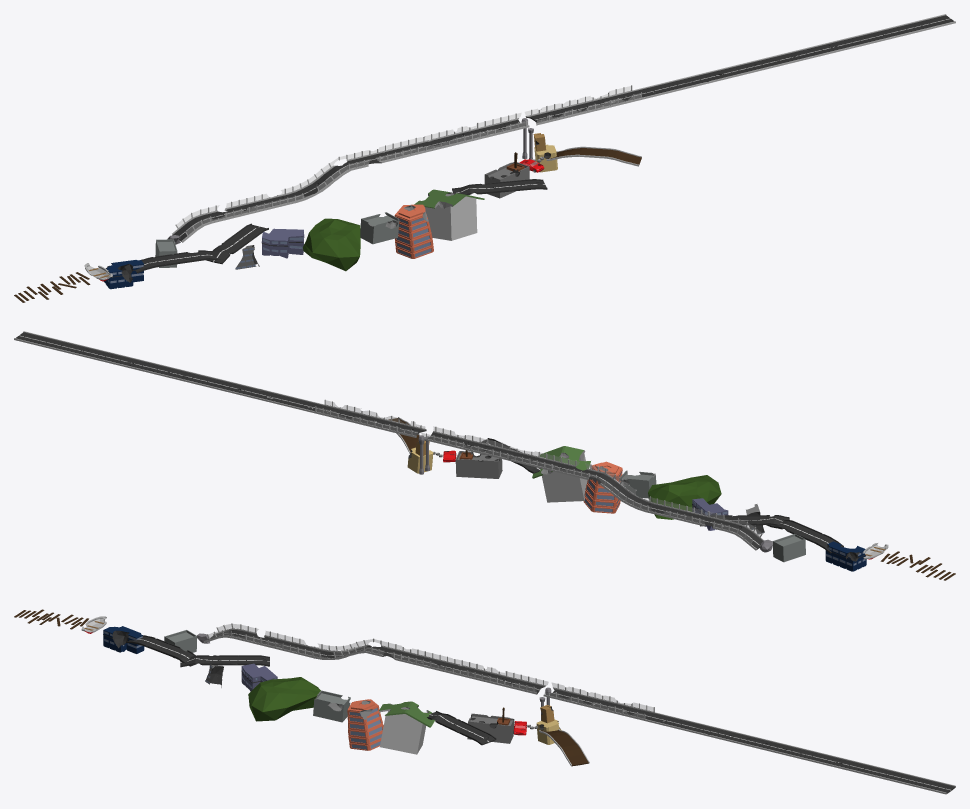
Rendered from Map2_물에잠긴도시_바닥.fbx.
The picture shows the model from 3 angles, top to bottom: view 1: azimuth 30°, elevation 25°; view 2: azimuth 150°, elevation 25°; view 3: azimuth 330°, elevation 25°; orthographic projection. The views are drawn at different scales.
Visible parts, largest first — view 1: 3_물도시_바닥_Bridge, 3_물도시_바닥_밟는 건물.006, 3_물도시_바닥_Island, 3_물도시_바닥_밟는 건물.003, 3_물도시_바닥_밟는 건물.002, 3_물도시_바닥_밟는 건물.005, 3_물도시_바닥_Road.003, 3_물도시_바닥_Road.006, 3_물도시_바닥_Road.002, 3_물도시_바닥_밟는 건물.001, 3_물도시_바닥_밟는 건물.007, 3_물도시_바닥_Road.001 (+1 smaller); view 2: 3_물도시_바닥_Bridge, 3_물도시_바닥_밟는 건물.006, 3_물도시_바닥_Island, 3_물도시_바닥_밟는 건물.003, 3_물도시_바닥_밟는 건물.007, 3_물도시_바닥_밟는 건물.001, 3_물도시_바닥_Road.001, 3_물도시_바닥_밟는 건물.008, 3_물도시_바닥_밟는 건물.005, 3_물도시_바닥_Road.002; view 3: 3_물도시_바닥_Bridge, 3_물도시_바닥_Island, 3_물도시_바닥_밟는 건물.006, 3_물도시_바닥_밟는 건물.003, 3_물도시_바닥_밟는 건물.007, 3_물도시_바닥_밟는 건물.005, 3_물도시_바닥_Road.002, 3_물도시_바닥_밟는 건물.001, 3_물도시_바닥_Road.003, 3_물도시_바닥_Road.006, 3_물도시_바닥_Road.001, 3_물도시_바닥_밟는 건물.002 (+2 smaller).
Part boxes in pixels (box(x1,y1,x2,y2)): 3_물도시_바닥_Bridge: box(172, 14, 955, 242); 3_물도시_바닥_밟는 건물.006: box(414, 189, 484, 240); 3_물도시_바닥_Island: box(302, 218, 360, 271); 3_물도시_바닥_밟는 건물.003: box(394, 204, 433, 258); 3_물도시_바닥_밟는 건물.002: box(261, 228, 304, 258); 3_물도시_바닥_밟는 건물.005: box(360, 212, 399, 244); 3_물도시_바닥_Road.003: box(452, 179, 547, 194); 3_물도시_바닥_Road.006: box(546, 146, 641, 166); 3_물도시_바닥_Road.002: box(206, 223, 268, 264); 3_물도시_바닥_밟는 건물.001: box(104, 260, 143, 289); 3_물도시_바닥_밟는 건물.007: box(484, 152, 529, 198); 3_물도시_바닥_Road.001: box(135, 250, 220, 273); 3_물도시_바닥_Bridge: box(14, 331, 763, 550); 3_물도시_바닥_밟는 건물.006: box(532, 446, 590, 502); 3_물도시_바닥_Island: box(648, 475, 721, 519); 3_물도시_바닥_밟는 건물.003: box(583, 461, 622, 513); 3_물도시_바닥_밟는 건물.007: box(455, 450, 502, 478); 3_물도시_바닥_밟는 건물.001: box(825, 541, 866, 571); 3_물도시_바닥_Road.001: box(766, 519, 843, 553); 3_물도시_바닥_밟는 건물.008: box(772, 533, 805, 562); 3_물도시_바닥_밟는 건물.005: box(619, 470, 656, 498); 3_물도시_바닥_Road.002: box(700, 515, 789, 526); 3_물도시_바닥_Bridge: box(203, 623, 955, 794); 3_물도시_바닥_Island: box(248, 677, 320, 721); 3_물도시_바닥_밟는 건물.006: box(379, 701, 434, 754); 3_물도시_바닥_밟는 건물.003: box(347, 699, 383, 750); 3_물도시_바닥_밟는 건물.007: box(467, 707, 514, 743); 3_물도시_바닥_밟는 건물.005: box(313, 690, 350, 722); 3_물도시_바닥_Road.002: box(180, 655, 269, 667); 3_물도시_바닥_밟는 건물.001: box(103, 626, 144, 653); 3_물도시_바닥_Road.003: box(427, 711, 496, 745); 3_물도시_바닥_Road.006: box(539, 729, 589, 766); 3_물도시_바닥_Road.001: box(126, 635, 196, 666); 3_물도시_바닥_밟는 건물.002: box(241, 663, 277, 691).
Size of the model in its own units: 9846 by 79037 by 5756.
